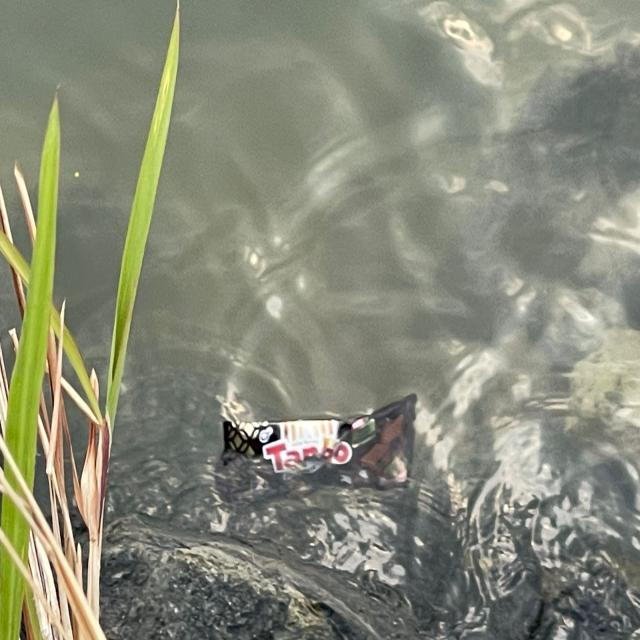Bungkus Makanan: (217, 386, 425, 530)
